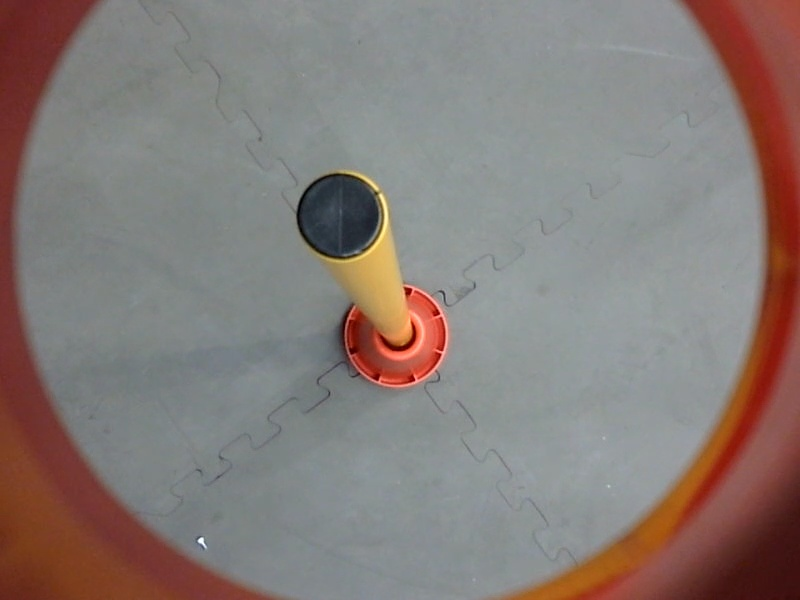tip: (293, 163, 391, 265)
